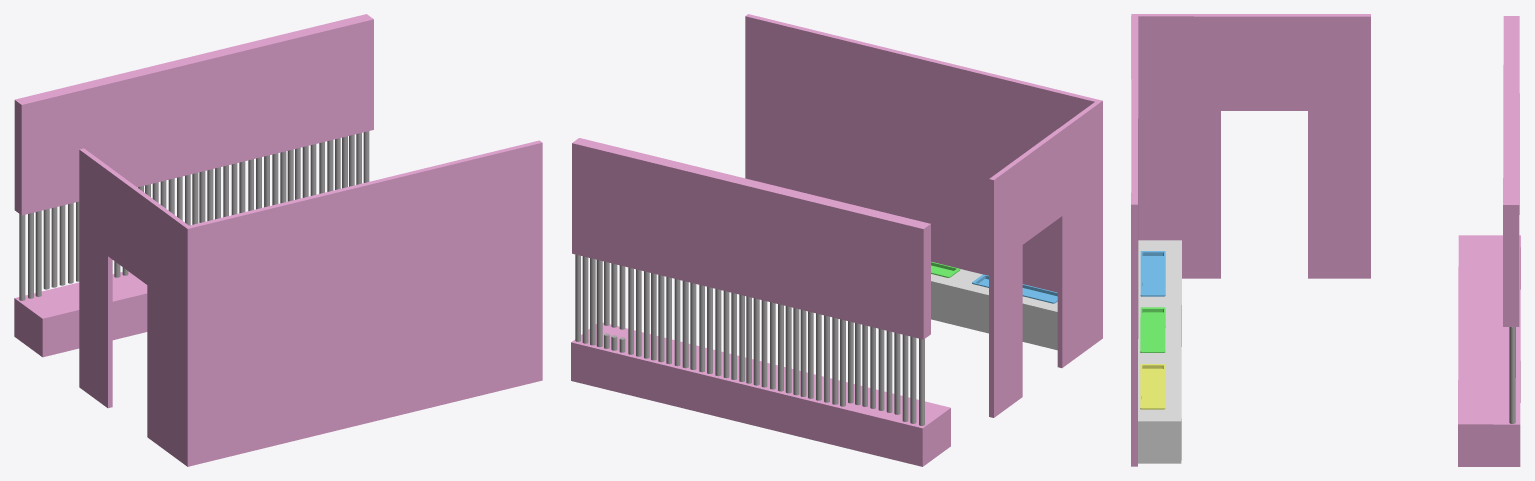
Rendered from meal_Area_Two.dae.
3 renders of one model, left to right at view 1: azimuth 30°, elevation 25°; view 2: azimuth 150°, elevation 25°; view 3: azimuth 270°, elevation 25°, orthographic. The views are drawn at different scales.
Parts seen in each view (by area): view 1: wall1, Cube.006, wall2.001, Cylinder.035, wall2, counter, wall2.002, Cylinder.034, Cylinder.048; view 2: wall1, Cube.006, Cylinder.035, counter, wall2.001, wall2, kit, wall2.002, Cylinder.034, Cylinder.048; view 3: wall2.001, wall2, counter, kit, wall2.002, Cube.006, wall1, Cylinder.035.
Part boxes in pixels (x1,y1,x2,y2): wall1: (189, 140, 542, 465); Cube.006: (14, 14, 373, 215); wall2.001: (147, 198, 192, 466); Cylinder.035: (19, 131, 369, 300); wall2: (79, 148, 112, 408); counter: (14, 271, 147, 357); wall2.002: (108, 169, 151, 284); Cylinder.034: (43, 201, 79, 289); Cylinder.048: (319, 138, 340, 193); wall1: (745, 14, 1098, 292); Cube.006: (572, 138, 930, 339); Cylinder.035: (575, 254, 924, 425); counter: (571, 322, 950, 466); wall2.001: (1057, 100, 1102, 367); wall2: (989, 158, 1022, 417); kit: (931, 261, 1057, 350); wall2.002: (1018, 129, 1062, 244); Cylinder.034: (848, 321, 900, 414); Cylinder.048: (604, 261, 625, 352); wall2.001: (1131, 14, 1220, 278); wall2: (1308, 14, 1370, 278); counter: (1458, 235, 1520, 466); kit: (1138, 240, 1181, 463); wall2.002: (1219, 14, 1307, 110); Cube.006: (1503, 16, 1519, 326); wall1: (1131, 15, 1138, 466); Cylinder.035: (1509, 327, 1515, 423).
Bounding box in the file's own units: 4.85 × 4.18 × 3.11.
